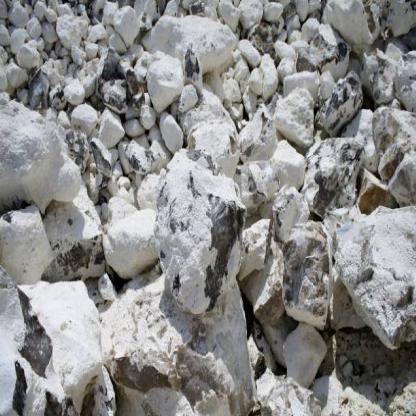Sedimentary_Limestone: (3, 267, 117, 415), (155, 142, 242, 324), (330, 214, 416, 360), (0, 96, 84, 212), (281, 220, 326, 339), (372, 99, 416, 192), (269, 83, 313, 152), (142, 52, 184, 122), (317, 66, 358, 132)
